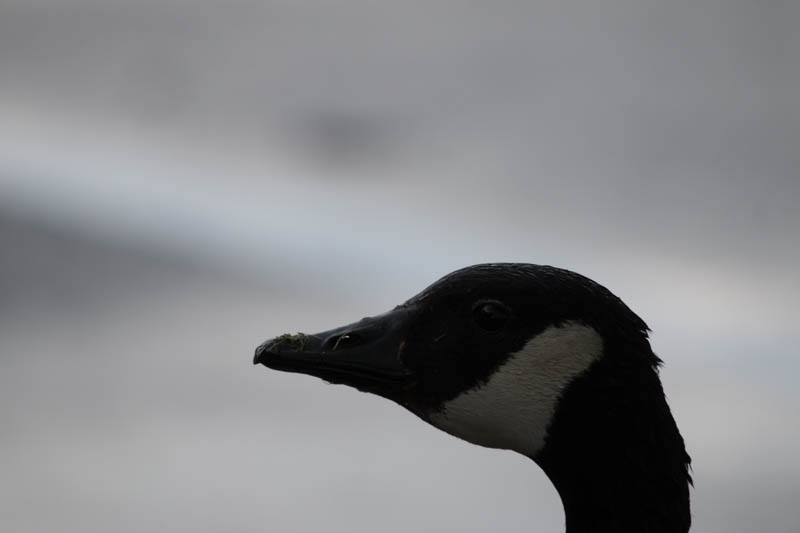goose-head: (253, 261, 685, 459)
